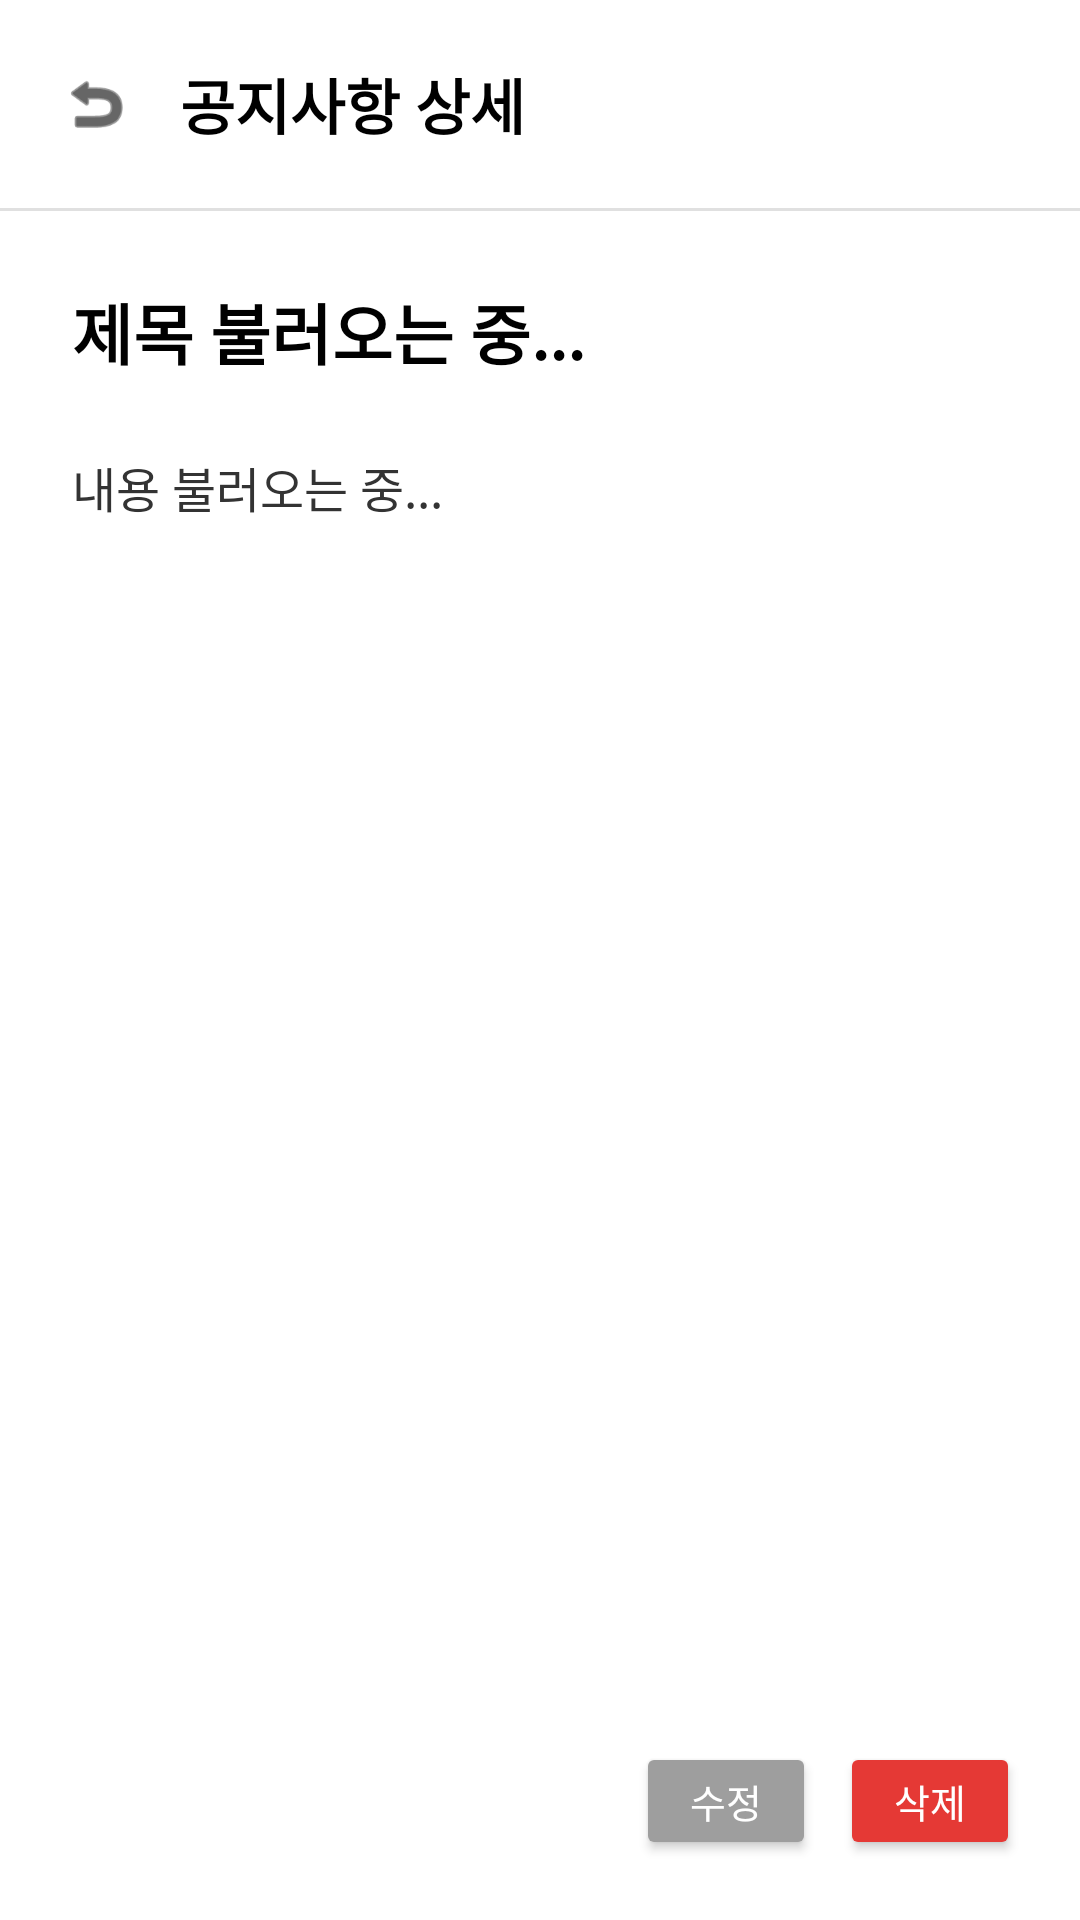

Point at icon controls on the screen. Image size 1080*1920, points as (x=x, y=y).
revert: (x=97, y=104)
